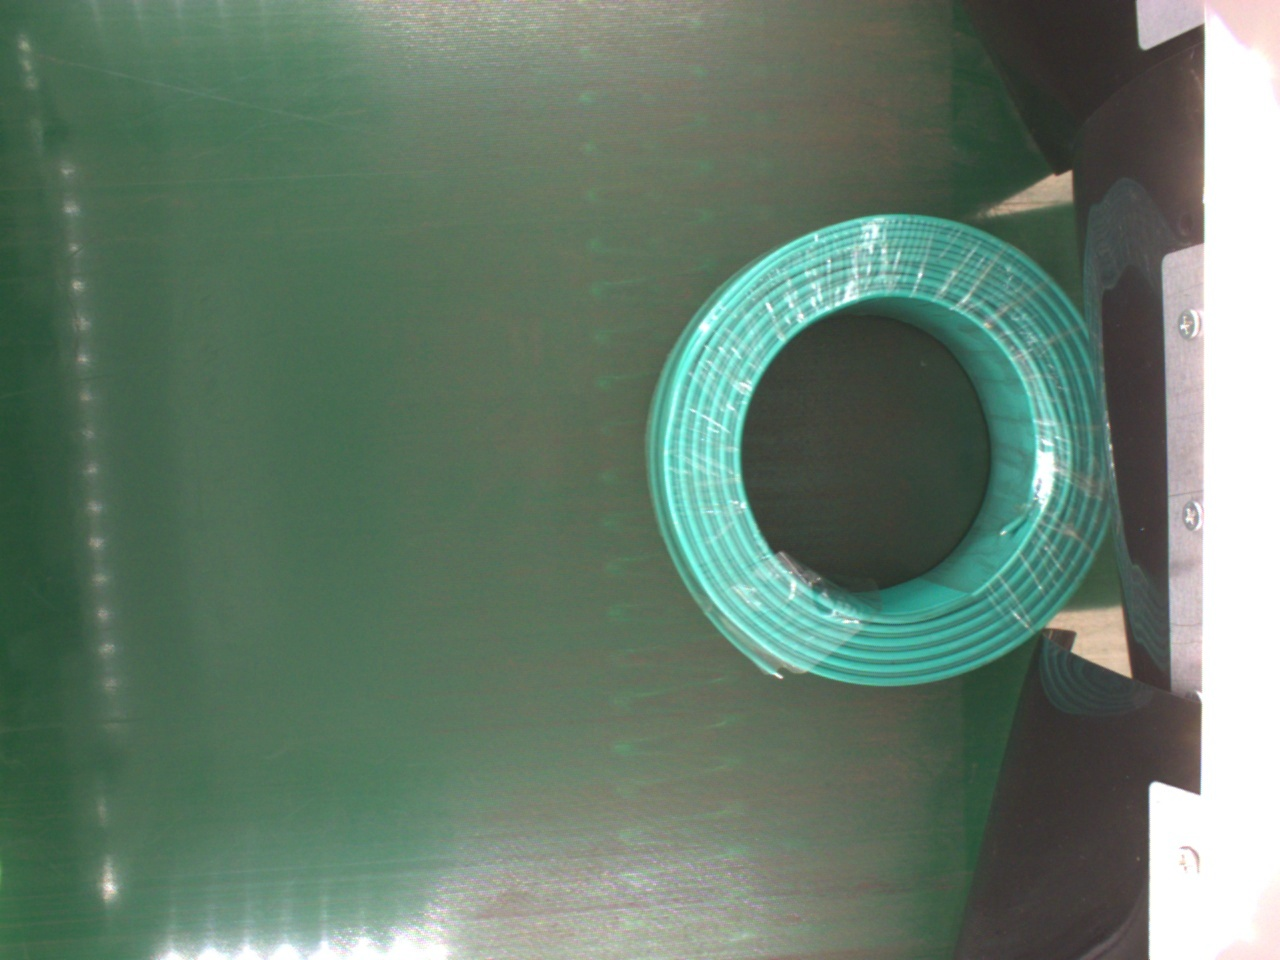green: (638, 213, 1117, 683)
